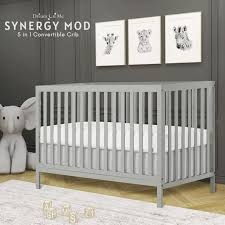crib: (35, 81, 215, 208)
